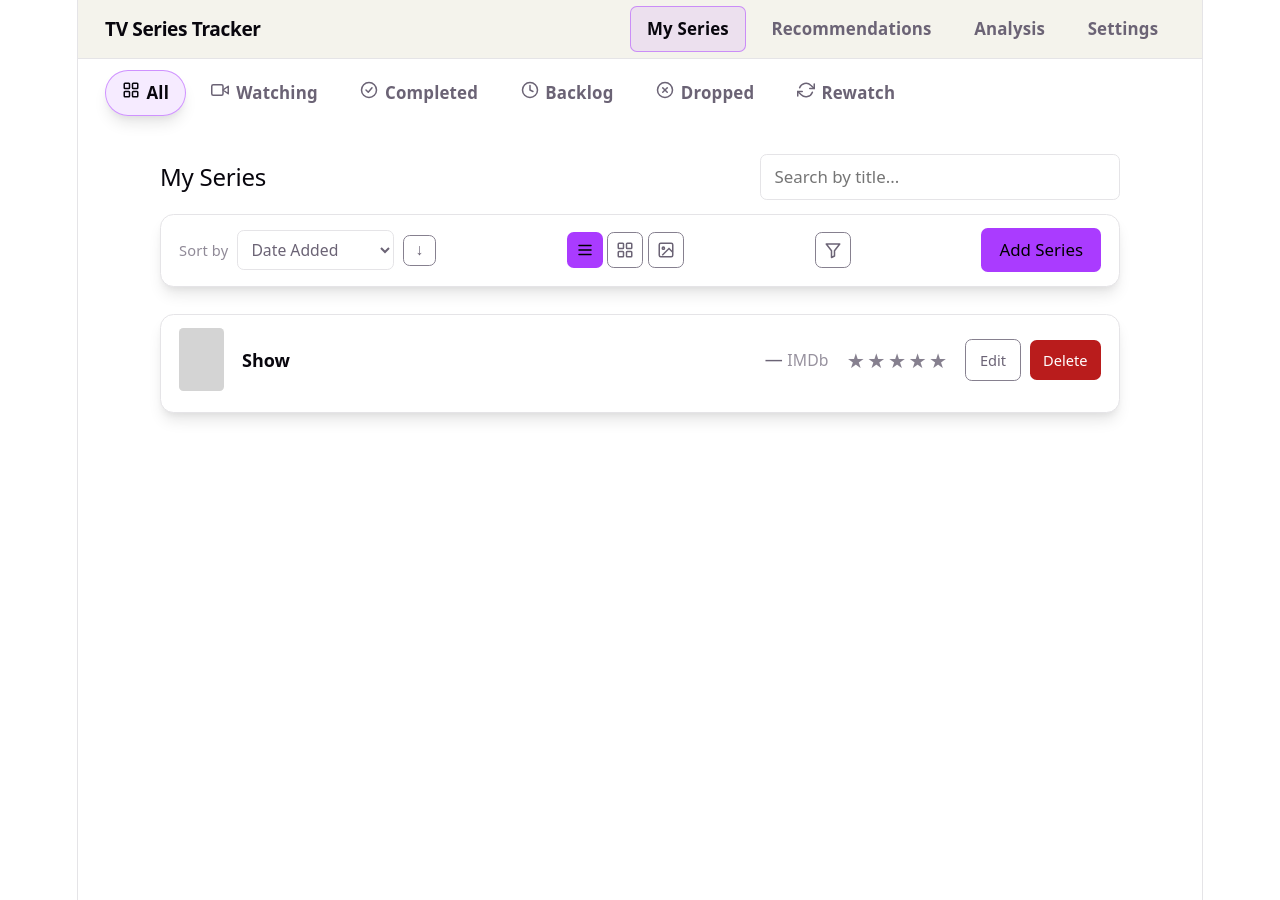
Test case: FRONTEND-005-AC-27: returning to the list › re-fetches SeriesList after Back
The image size is (1280, 900).
Expected: the list item with test id "series-row" is shown, [160,314,1120,413]
What coordinates should you click on to do the following:
click the button "Show"
I would click on:
 (266, 360)
Its box is [242,347,290,373].
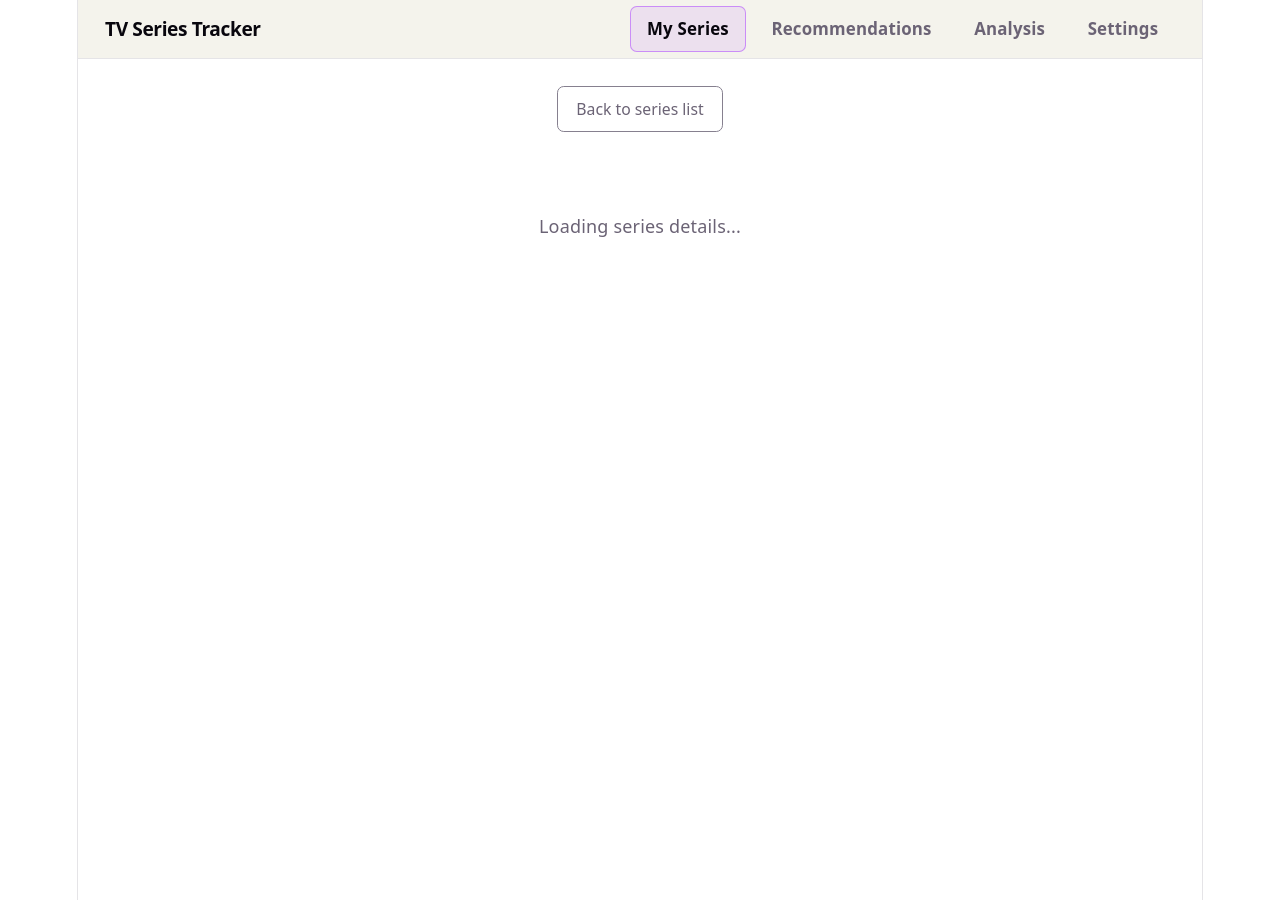
Now the button with test id "back-btn" is shown
What coordinates should you click on to do the following:
click the button with test id "back-btn"
I would click on:
 (640, 109)
Its box is [557,86,723,132].
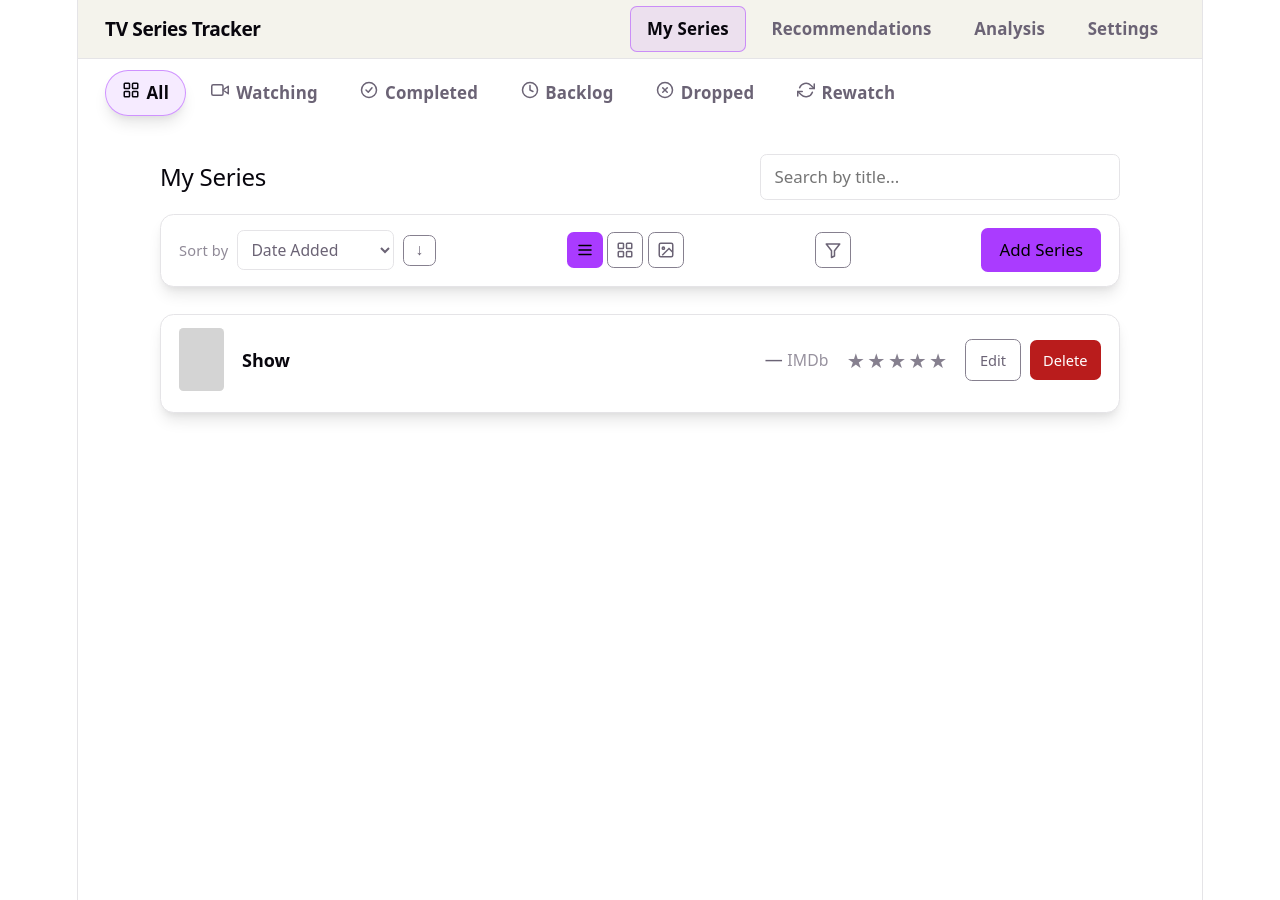
Now the list item with test id "series-row" is shown, box [160,314,1120,413]
